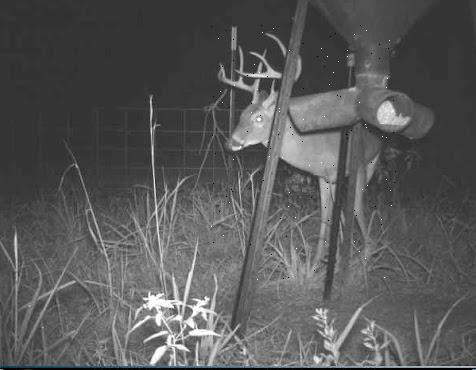Deer: (209, 25, 396, 280)
